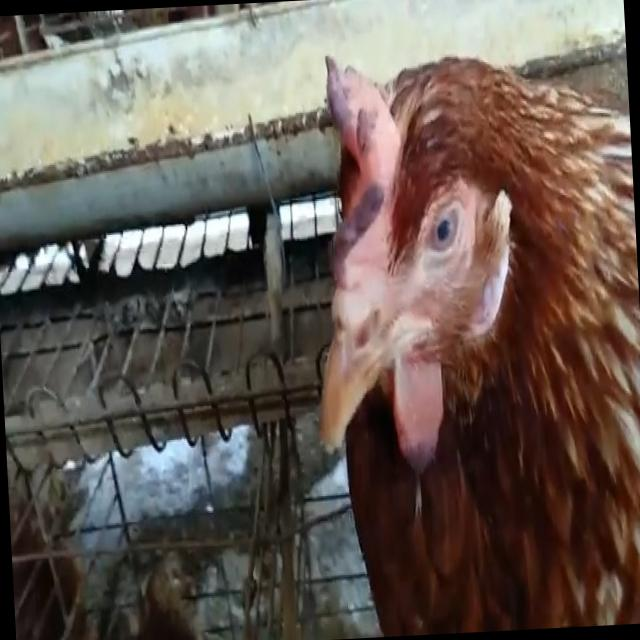bird flu: (304, 41, 640, 639)
